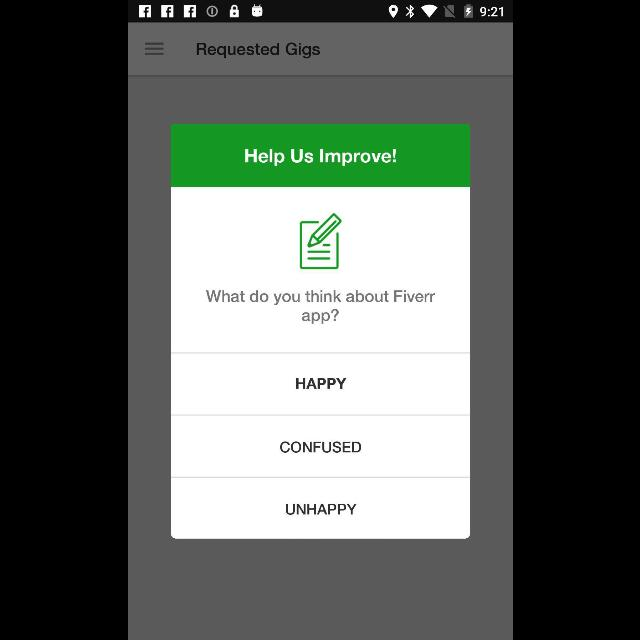icon: (300, 214, 340, 268), (144, 42, 162, 56)
panel: (170, 124, 470, 538)
text: (205, 290, 435, 324), (245, 150, 395, 167), (196, 43, 320, 59), (280, 442, 360, 452), (284, 504, 356, 514), (295, 378, 345, 389)
uppertaskbar: (128, 1, 512, 23)
